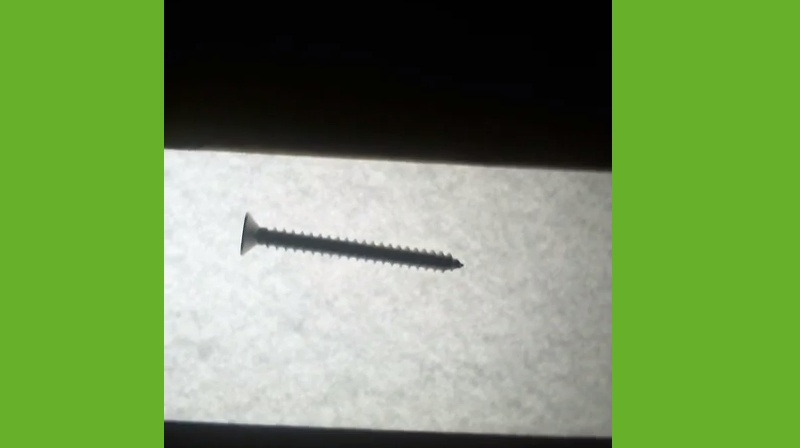S002: (235, 209, 466, 274)
